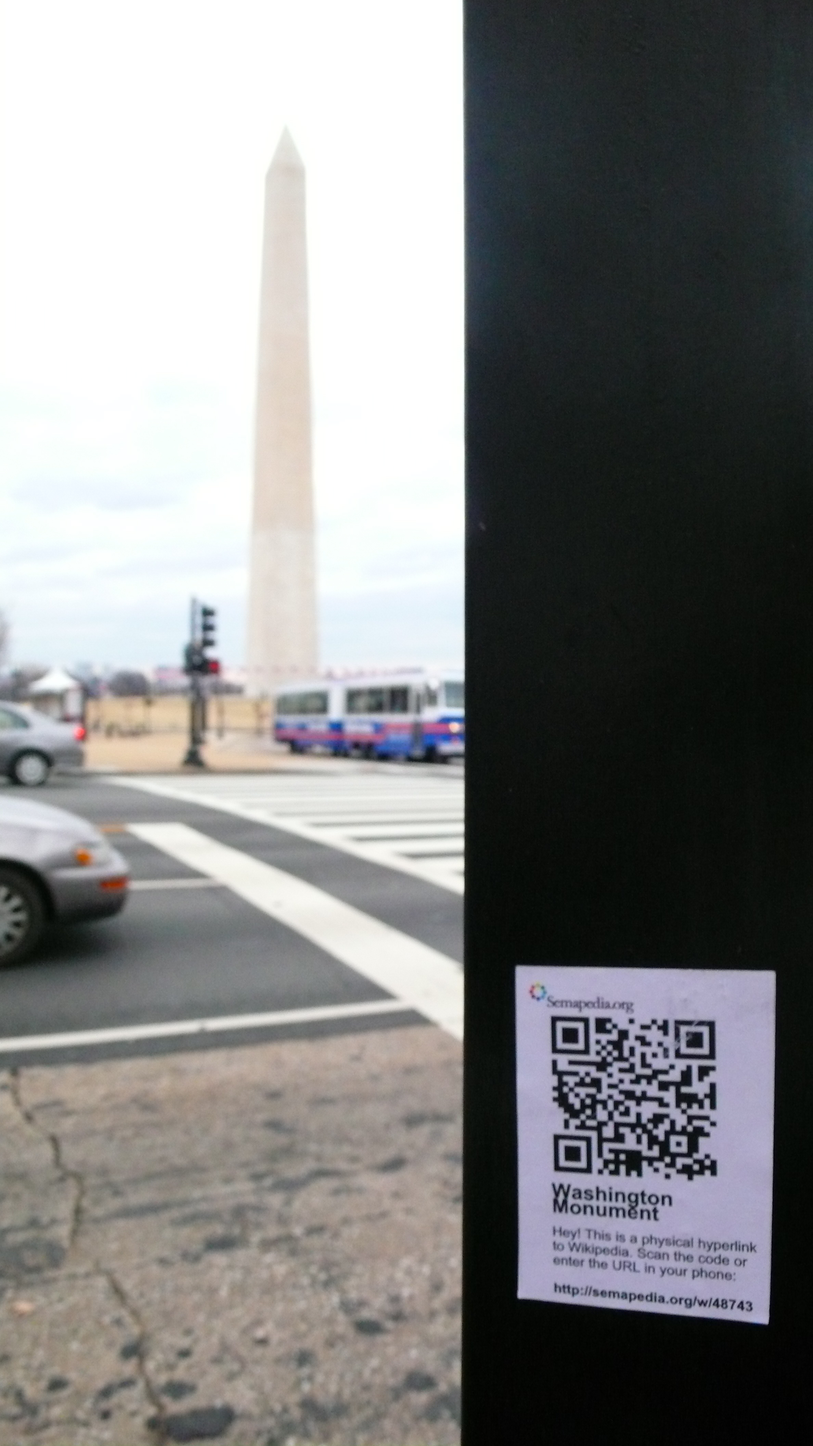QR-CODE: (551, 1016, 717, 1181)
